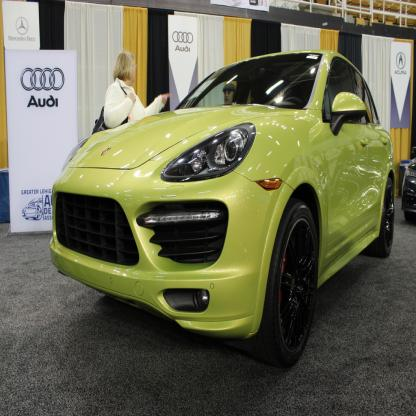Car: (50, 50, 397, 369), (402, 147, 416, 222)
